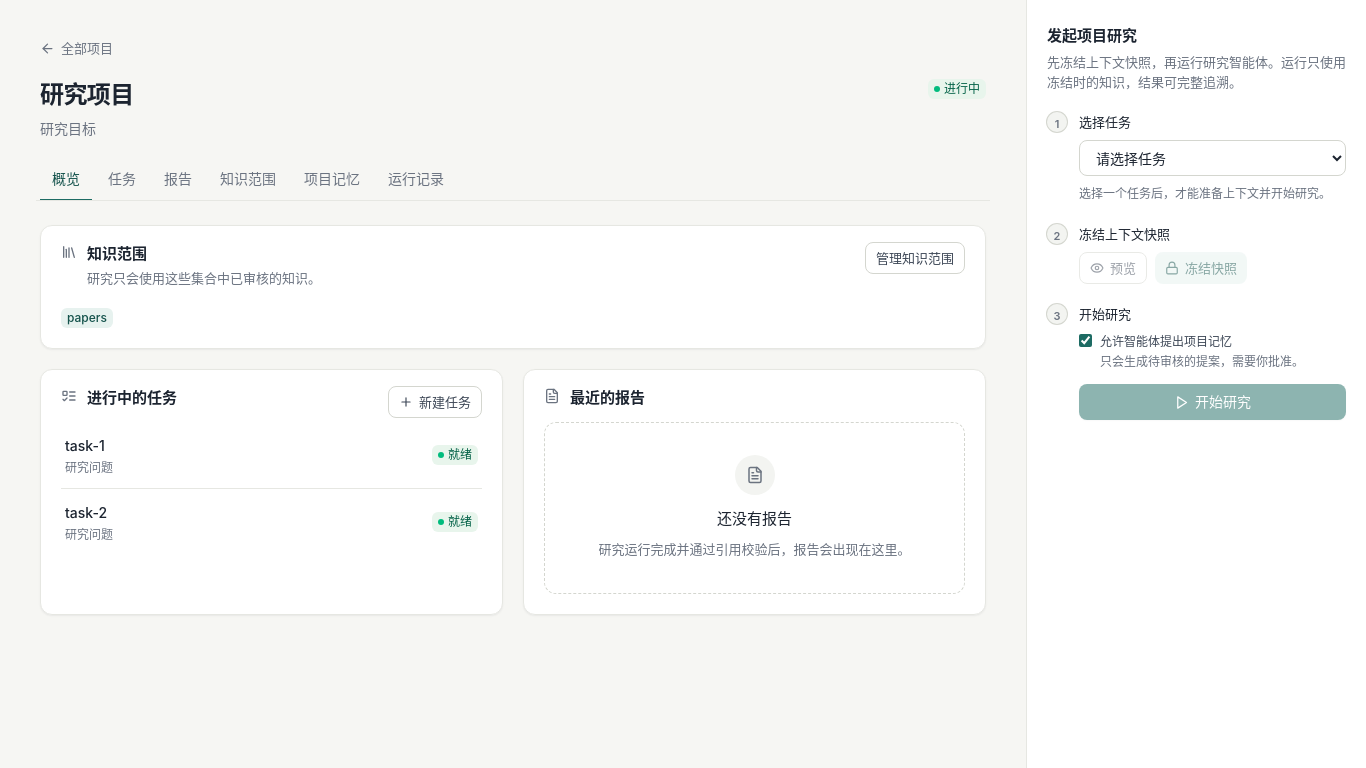
Test: project scope and snapshot regressions › rejects a returned snapshot belonging to a different task before starting a run
Select "task-2" in the dropdown named "选择任务": [1212, 158] box [1079,140,1346,176]
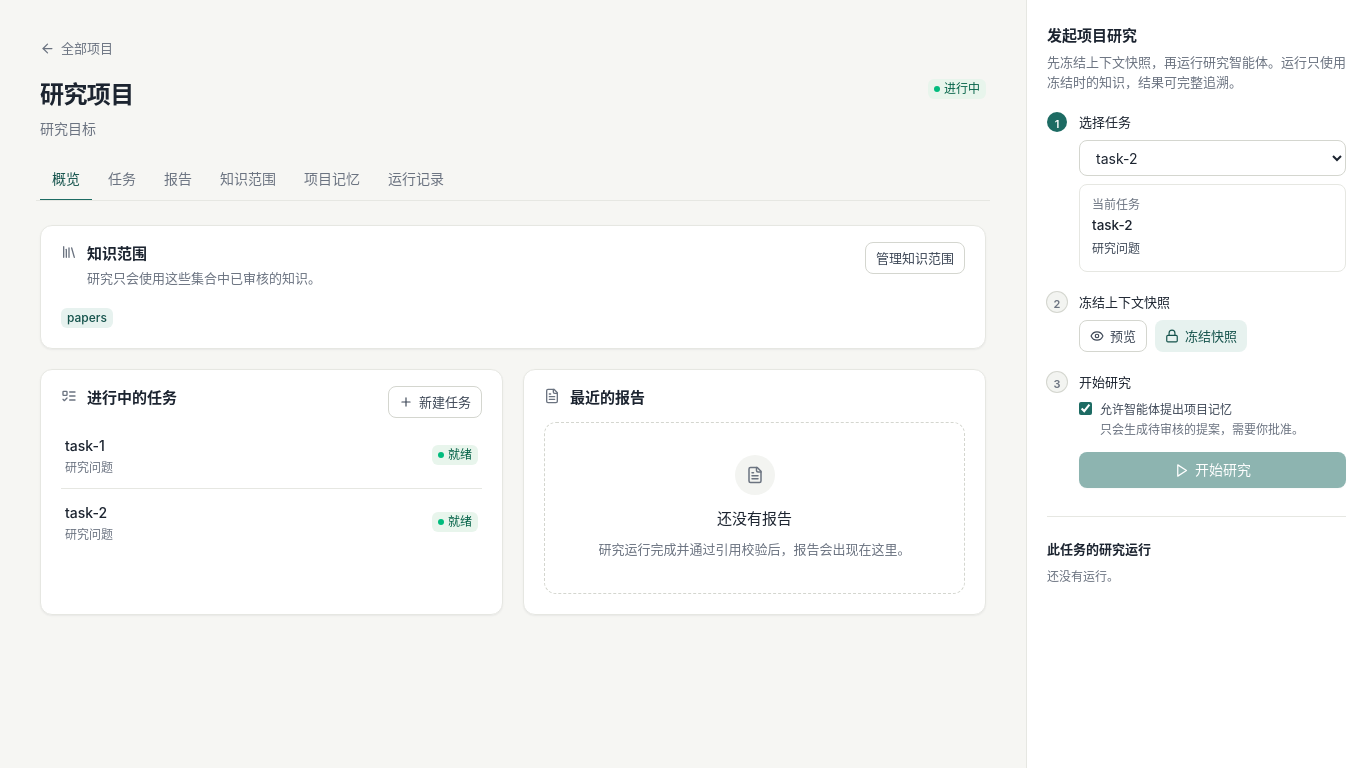
Click the button "冻结快照": [1201, 336] box [1155,320,1247,352]
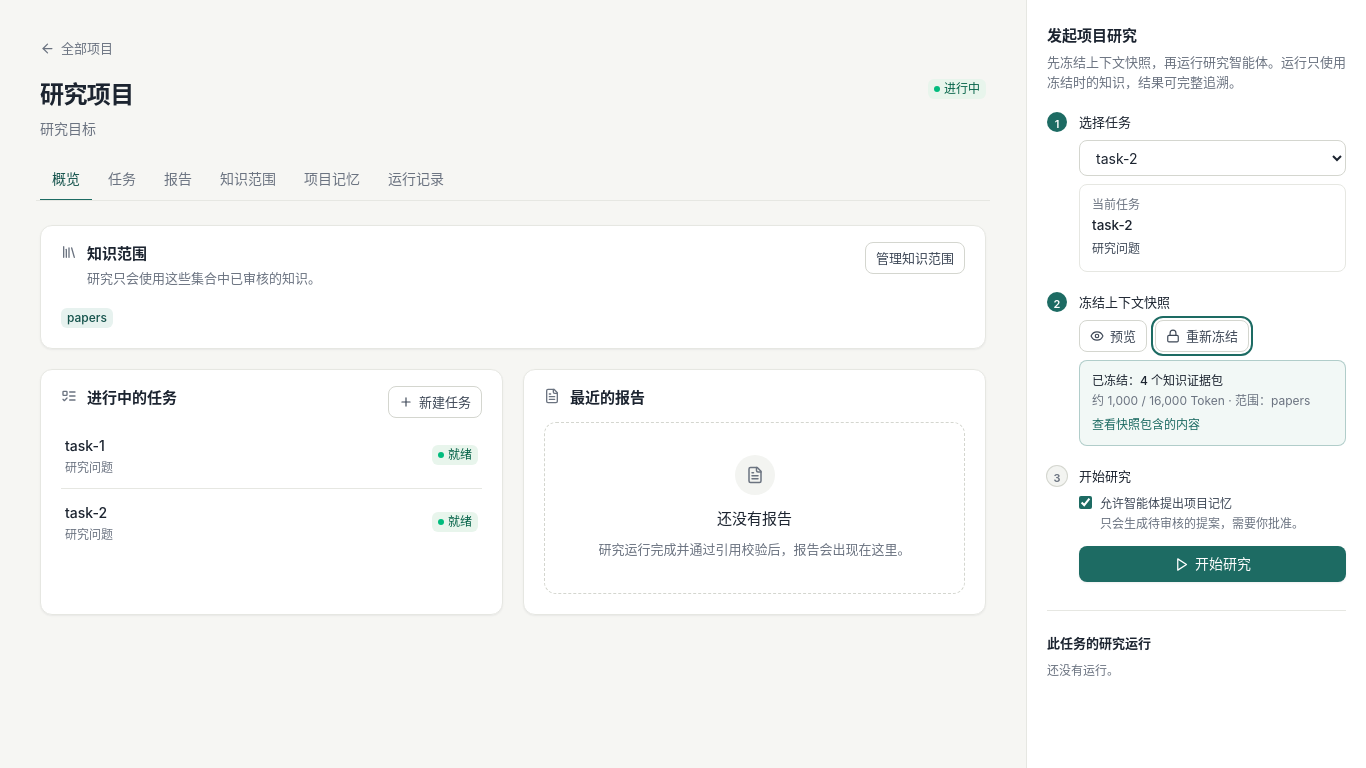
Check: the text "已冻结：4 个知识证据包" is shown, box [1092,373,1223,388]
Click the button "开始研究": [1212, 564] box [1079,546,1346,582]
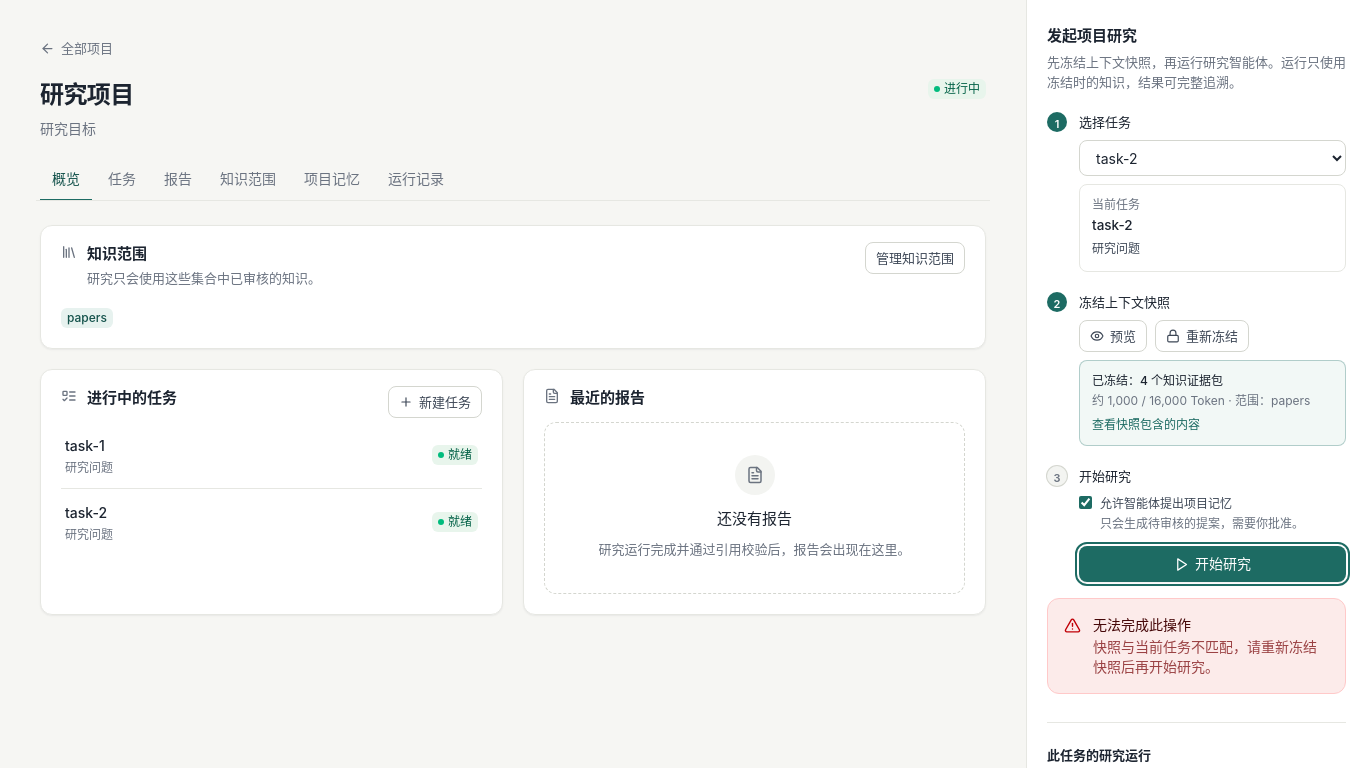
Check: the text "快照与当前任务不匹配，请重新冻结快照后再开始研究。" is shown, box [1093,637,1329,677]
